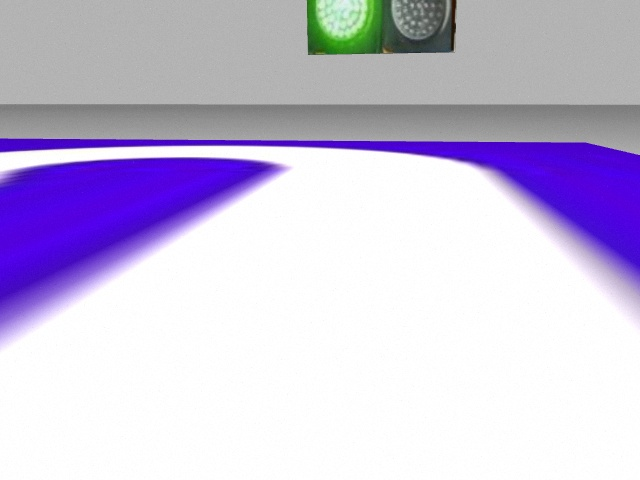green: (306, 1, 384, 55)
